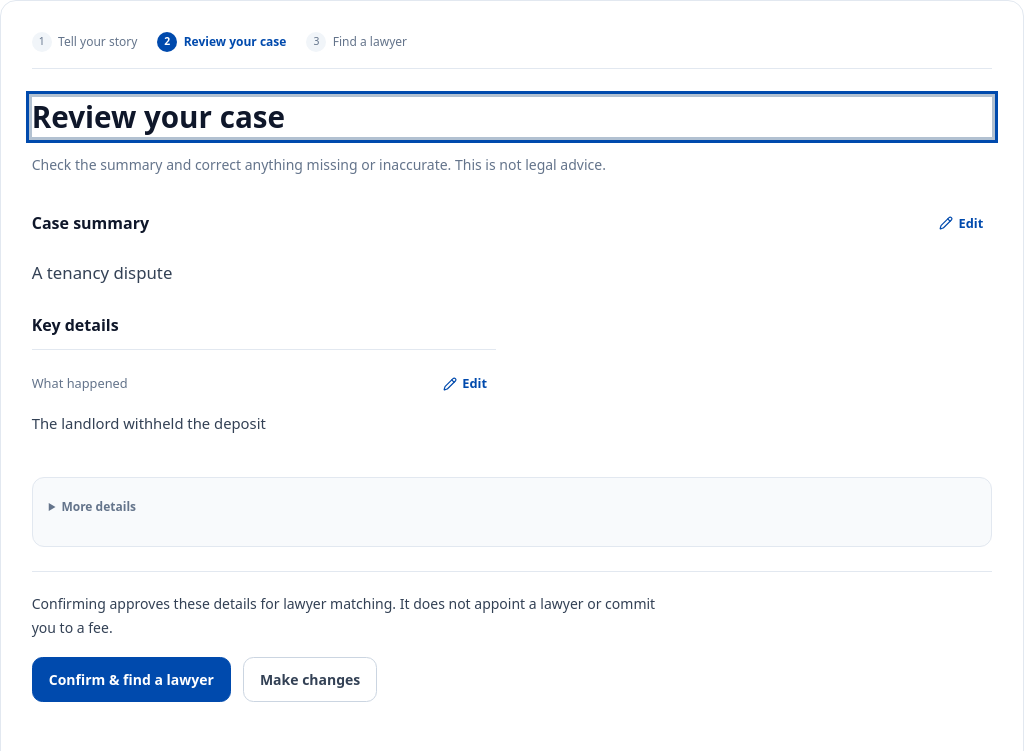
Test: a restored confirmation is not silently adopted for submission
Click the button "Confirm & find a lawyer".
click(131, 680)  # box left=32, top=657, right=231, bottom=702
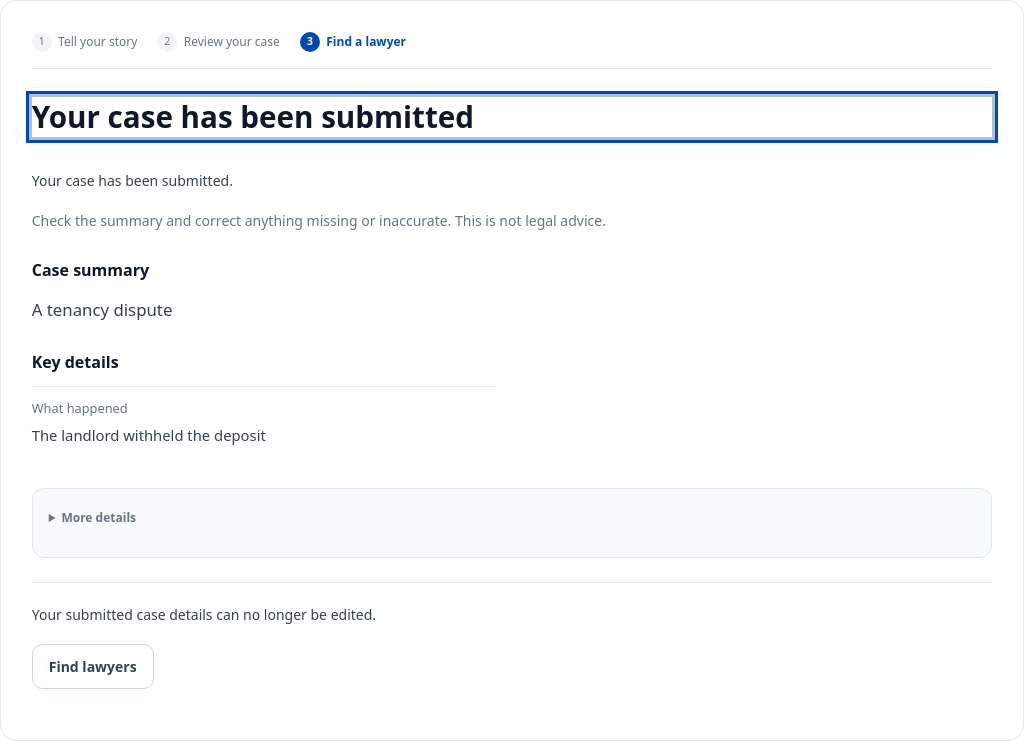
Expected: the text "Your submitted case details can no longer be edited." is shown, left=32, top=606, right=376, bottom=624
